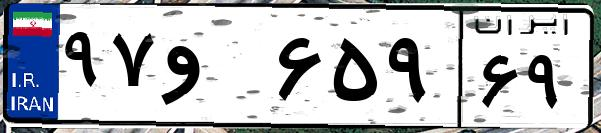5: (330, 28, 385, 110)
6: (270, 28, 330, 110), (475, 38, 525, 113)
7: (110, 28, 158, 98)
9: (385, 28, 445, 110), (57, 26, 110, 100), (525, 38, 570, 115)
و: (158, 20, 270, 120)
